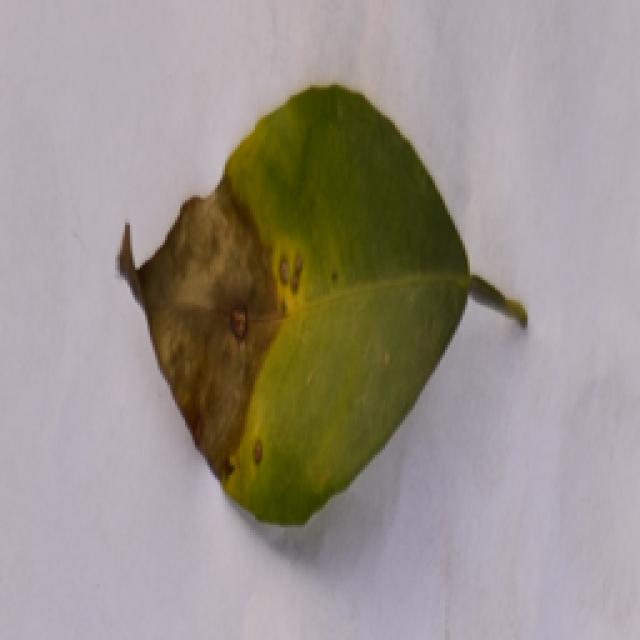canker: (95, 106, 515, 510)
